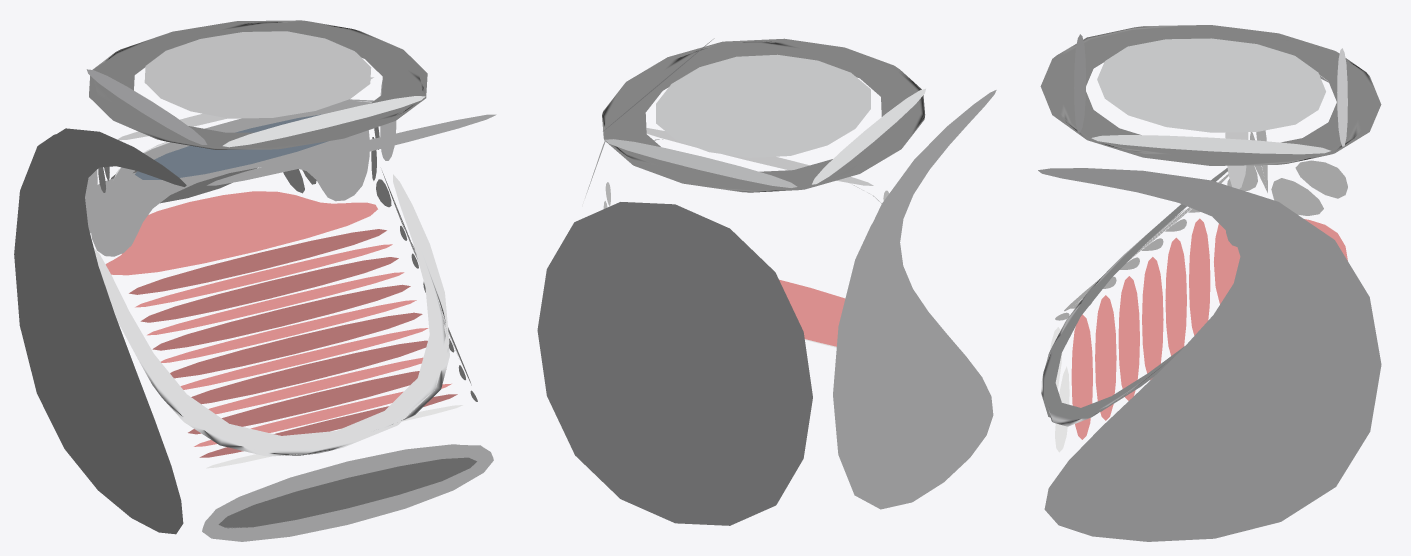
The model's file is grandstand_covered.glb.
3 renders of one model, left to right at view 1: azimuth 30°, elevation 25°; view 2: azimuth 150°, elevation 25°; view 3: azimuth 270°, elevation 25°, orthographic. The views are drawn at different scales.
Visible parts, largest first — view 1: grandstand_covered; view 2: grandstand_covered; view 3: grandstand_covered.
Boxes of the visible parts, left/top/right/bottom form: grandstand_covered: left=14, top=20, right=496, bottom=541; grandstand_covered: left=537, top=38, right=996, bottom=525; grandstand_covered: left=1038, top=25, right=1381, bottom=541.
Bounding box in the file's own units: 1 × 1.19 × 1.02.
